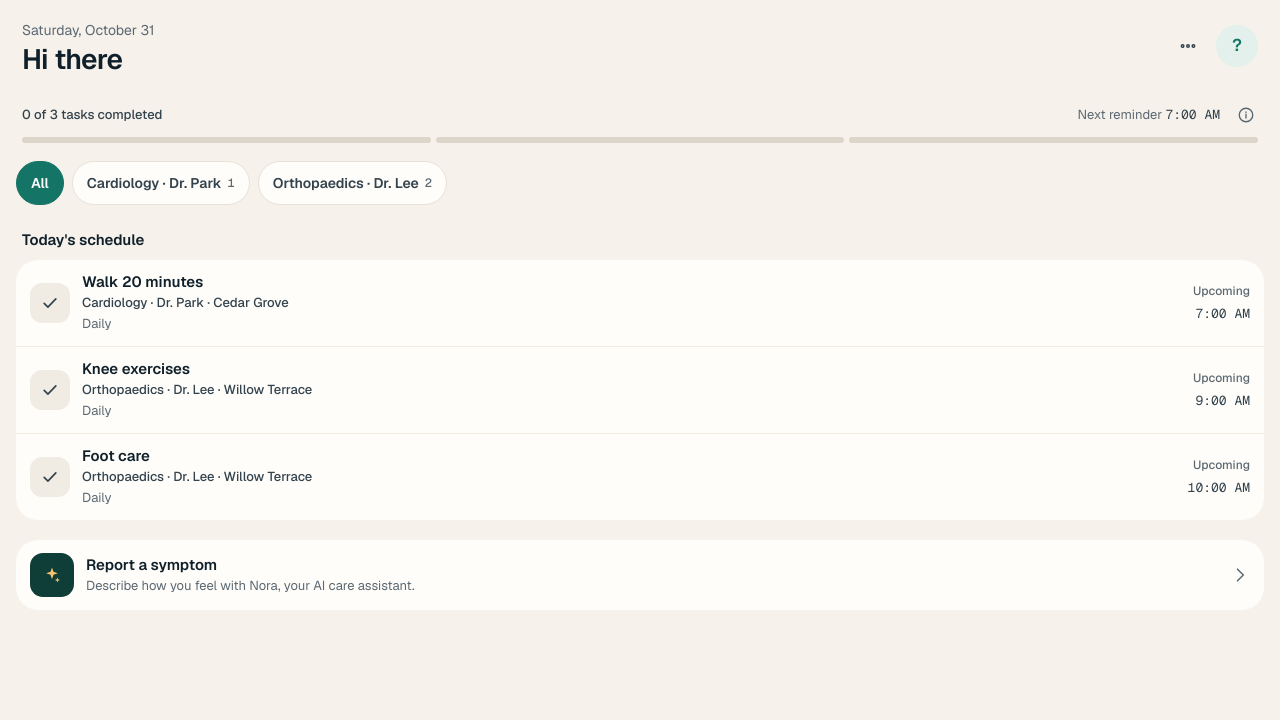
Test: Today with several care teams › filters the list to one care team and back to All
The width and height of the screenshot is (1280, 720).
Click the button "Orthopaedics · Dr. Lee 2".
click(352, 183)  # box 258,161 -> 447,205
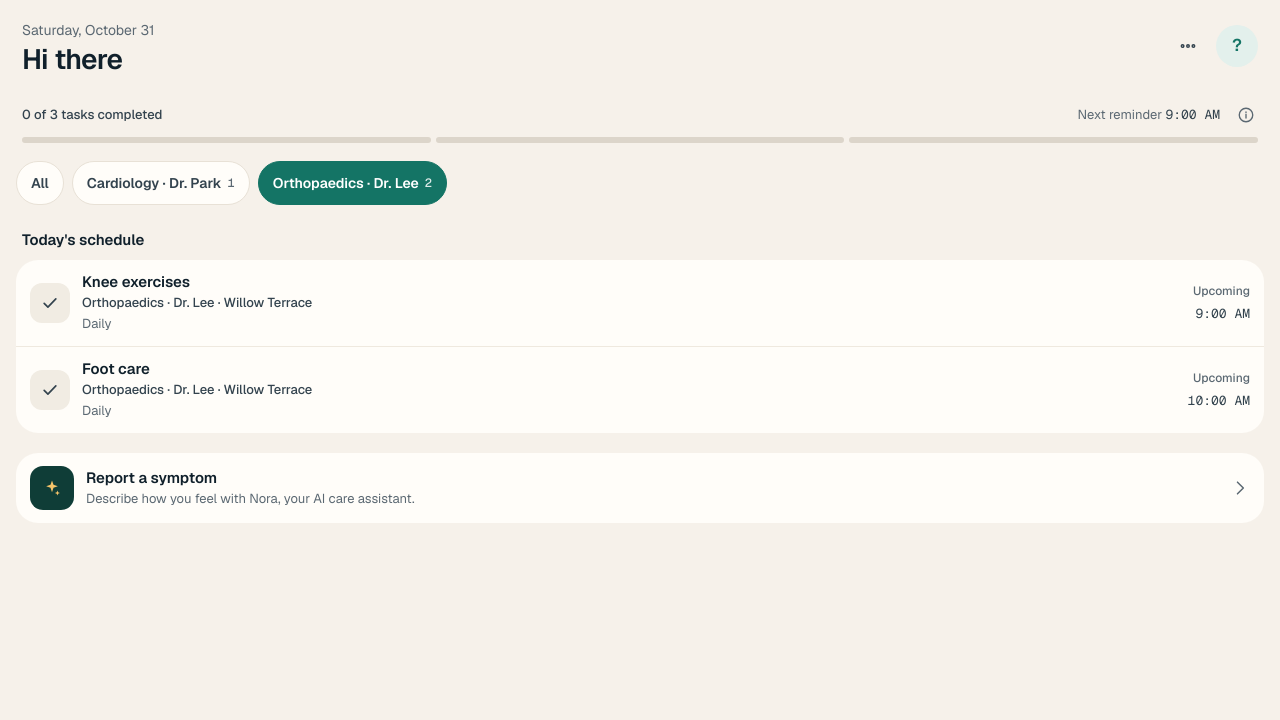
Check: the text "Knee exercises" is shown, box 82,272 -> 190,290
Check: the button "Walk 20 minutes" is gone
Click the button "All".
click(40, 183)  # box 16,161 -> 64,205
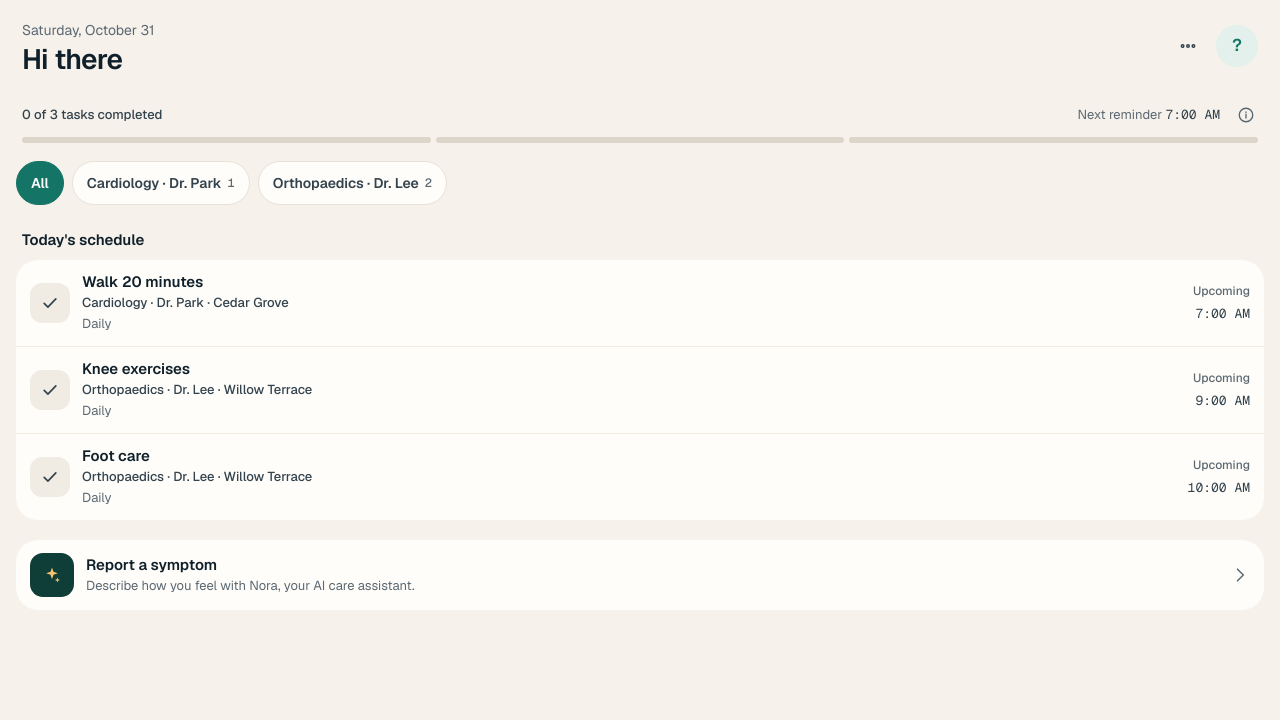
Check: the text "Walk 20 minutes" is shown, box 82,272 -> 203,290
